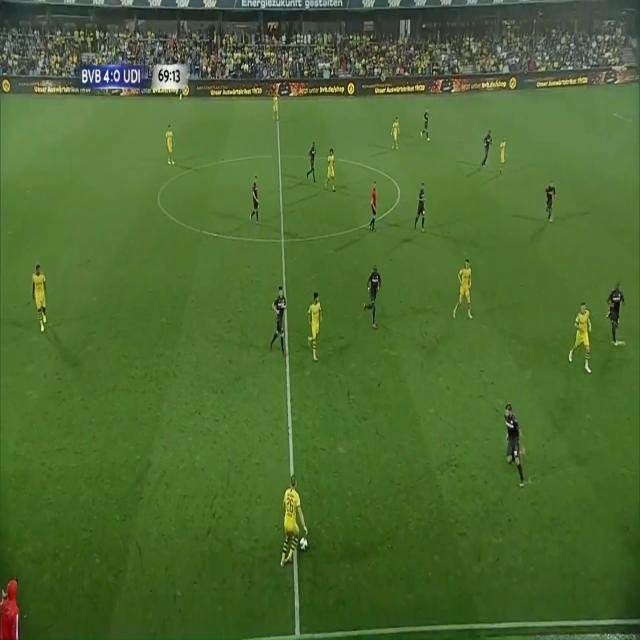ball: (300, 530, 310, 552)
player: (499, 403, 534, 498), (278, 454, 305, 569), (565, 301, 596, 374), (27, 263, 56, 333), (304, 285, 328, 363), (270, 284, 293, 361), (361, 263, 384, 334), (452, 252, 474, 326), (607, 277, 626, 350), (540, 172, 562, 232), (160, 120, 180, 170), (413, 182, 430, 234), (389, 113, 406, 162), (247, 173, 263, 224), (323, 149, 340, 195), (304, 133, 318, 185), (481, 124, 495, 173), (419, 107, 434, 140), (270, 89, 281, 119), (499, 141, 509, 172)
referee: (367, 178, 381, 240)
